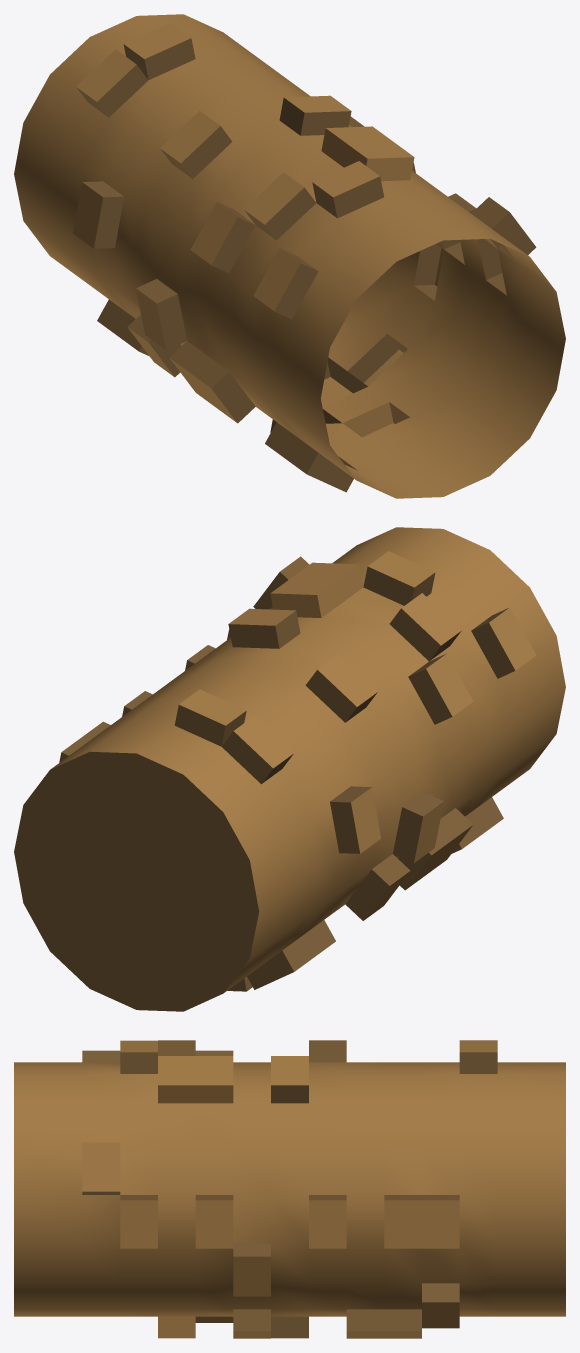
3 views of the same model, one above another, from view 1: azimuth 30°, elevation 25°; view 2: azimuth 150°, elevation 25°; view 3: azimuth 270°, elevation 25° (orthographic). The views are drawn at different scales.
Parts seen in each view (by area): view 1: anim_0_0_90.004; view 2: anim_0_0_90.004; view 3: anim_0_0_90.004.
Boxes of the visible parts, x1,y1,x2,y2 form: anim_0_0_90.004: (14,14,565,498); anim_0_0_90.004: (14,527,565,1011); anim_0_0_90.004: (14,1040,565,1338).
Size of the model in its own units: 0.2704 by 0.2704 by 0.5.
